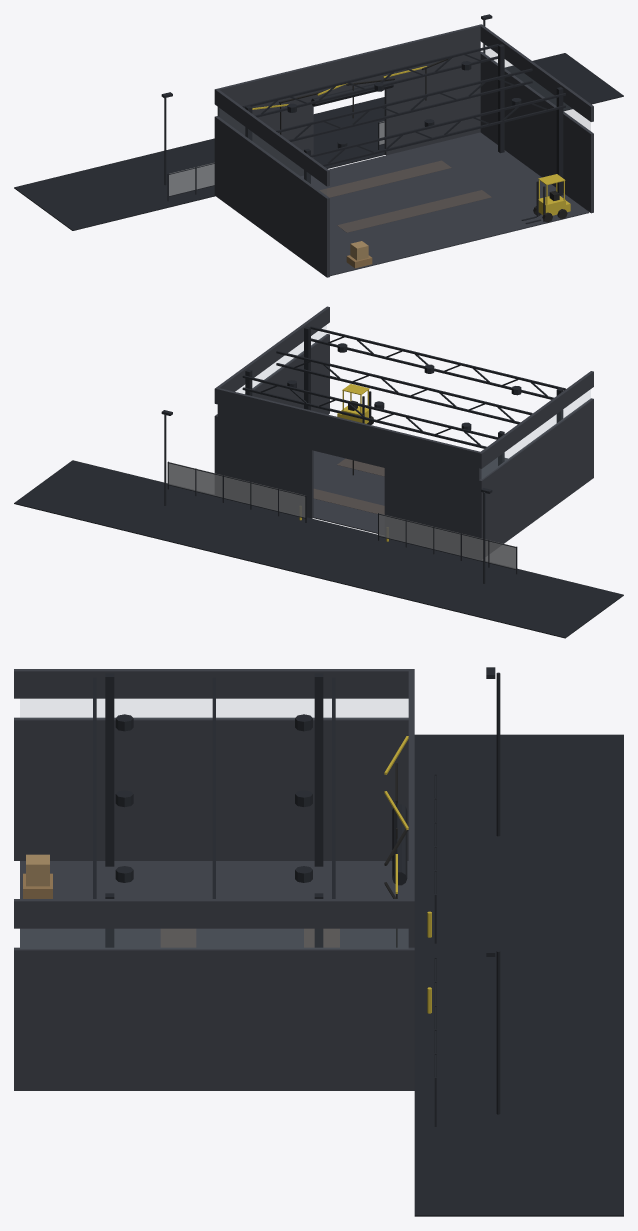
The model's file is stage_3.glb.
3 views of the same model, one above another, from view 1: azimuth 30°, elevation 25°; view 2: azimuth 150°, elevation 25°; view 3: azimuth 270°, elevation 25° (orthographic). The views are drawn at different scales.
Visible parts, largest first — view 1: walls, floor, props_stage_3, hot_tiles, glass; view 2: floor, walls, props_stage_3, glass, hot_tiles; view 3: walls, floor, props_stage_3, glass, hot_tiles.
Part boxes in pixels (x1,y1,x2,y2): walls: (214, 24, 593, 277); floor: (14, 53, 623, 276); props_stage_3: (161, 14, 570, 268); hot_tiles: (320, 160, 491, 232); glass: (218, 43, 590, 196); floor: (14, 451, 623, 638); walls: (214, 306, 593, 543); props_stage_3: (161, 326, 565, 583); glass: (236, 325, 590, 478); hot_tiles: (313, 458, 384, 514); walls: (14, 669, 414, 1090); floor: (20, 734, 623, 1216); props_stage_3: (23, 667, 500, 1126); glass: (20, 699, 407, 948); hot_tiles: (160, 928, 339, 947).
Size of the model in its own units: 38 by 7.06 by 20.4.
